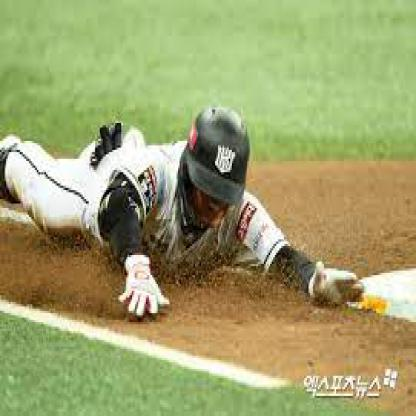Fall_Down: (3, 100, 368, 326)
